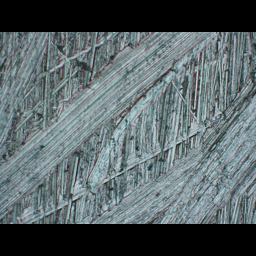d: (0, 31, 254, 223)
